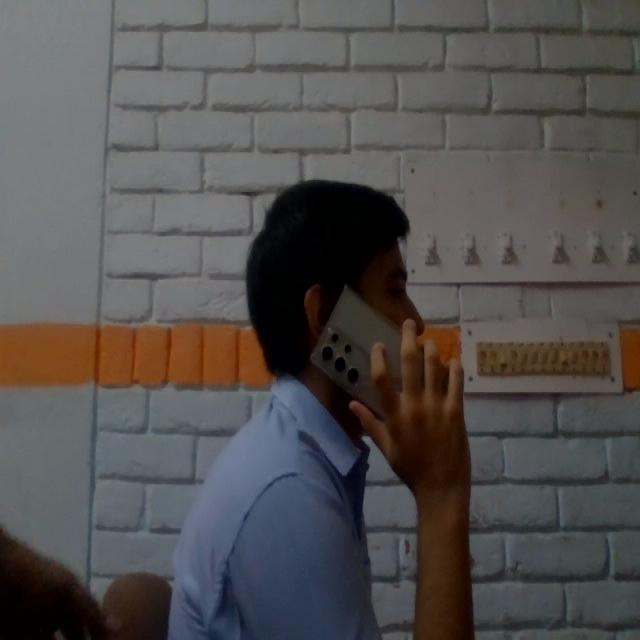oncall: (171, 173, 481, 640)
phone: (307, 280, 458, 444)
